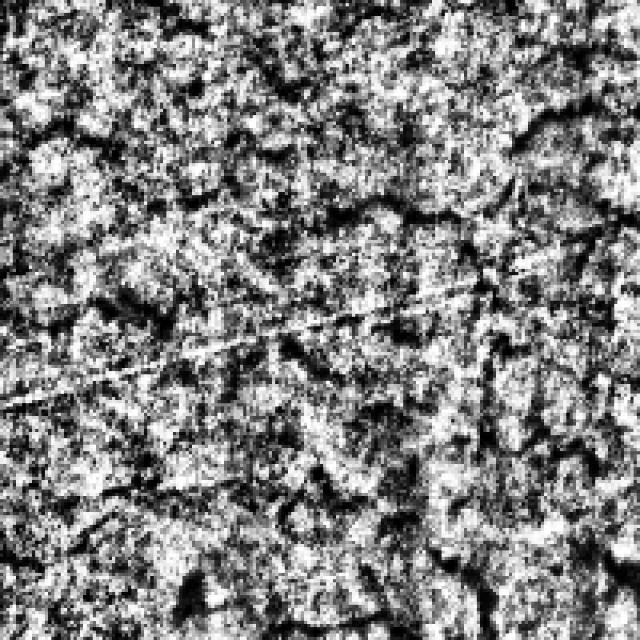Pitted_Surface: (54, 394, 596, 612), (176, 67, 634, 323), (6, 186, 512, 380)
